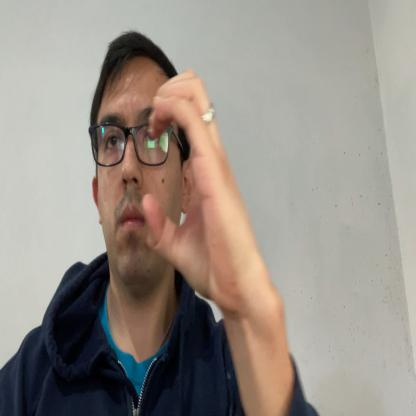C: (142, 67, 278, 320)
